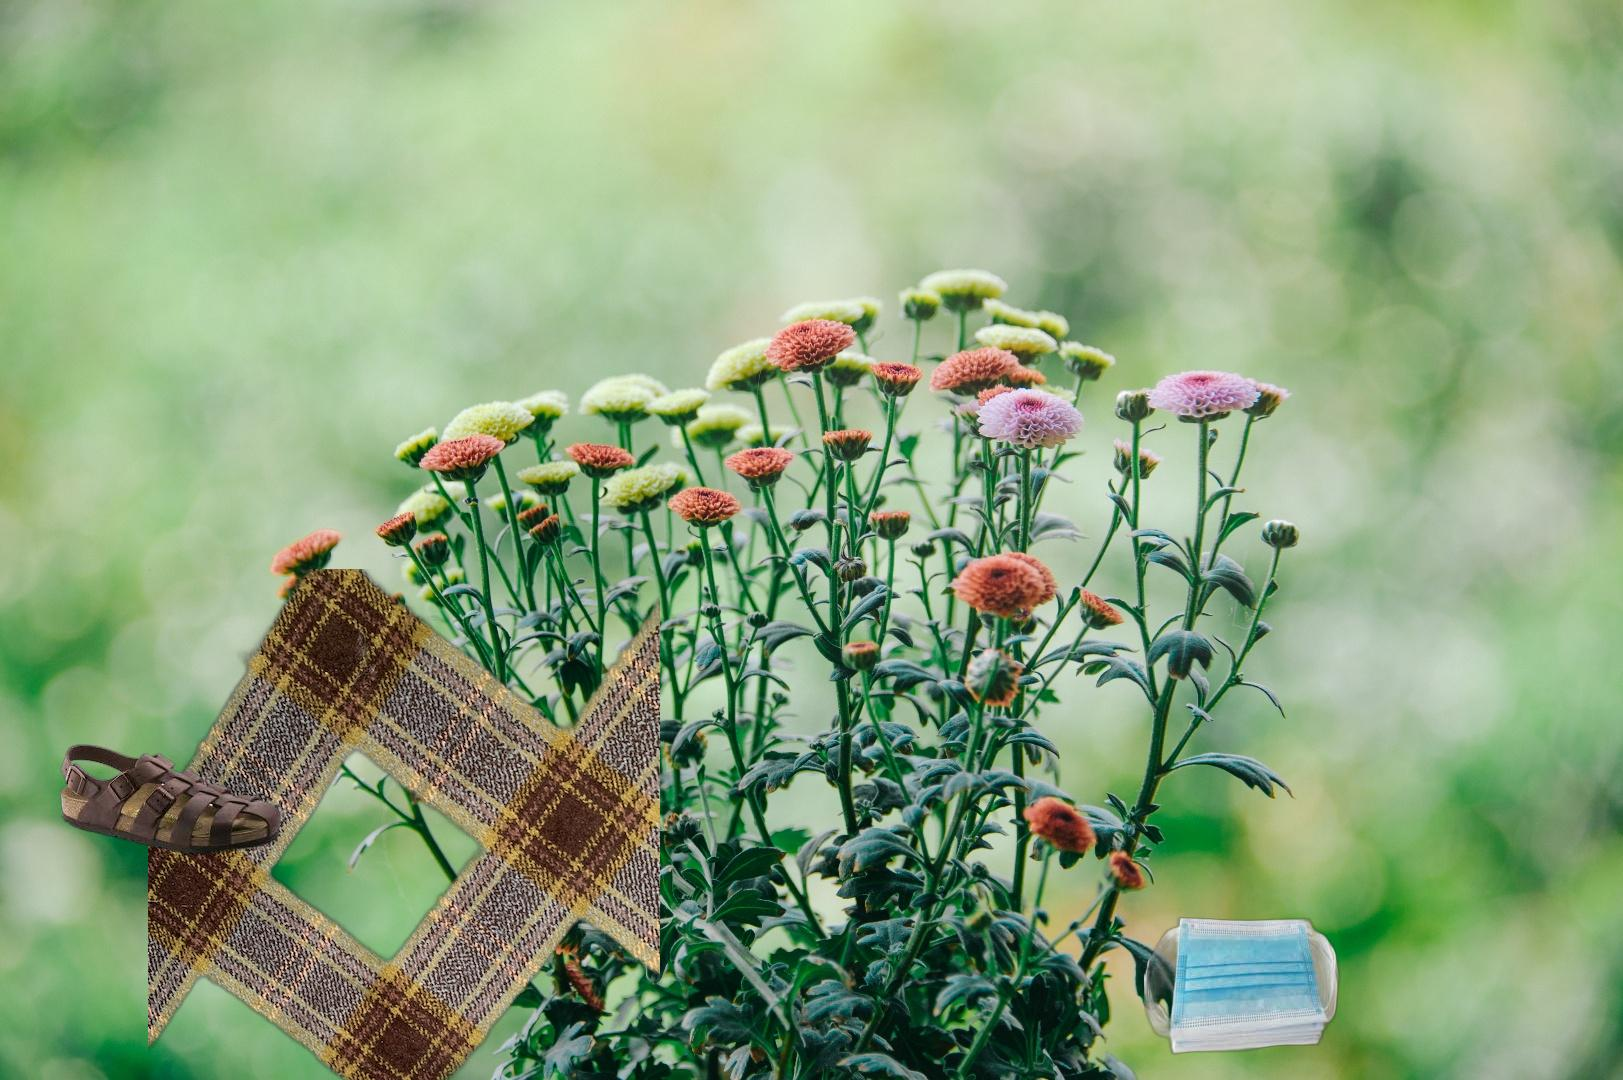metal-cans: (148, 569, 660, 1080)
shoes: (58, 742, 283, 857)
trash: (1143, 914, 1343, 1057)
